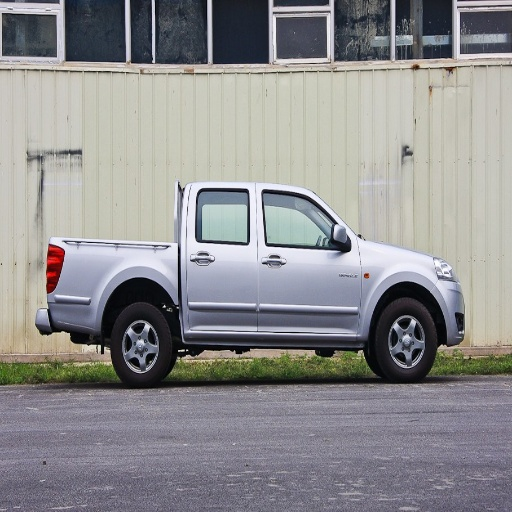back_right_door: (186, 187, 259, 331)
front_right_door: (259, 187, 362, 332)
trunk: (50, 244, 178, 337)
